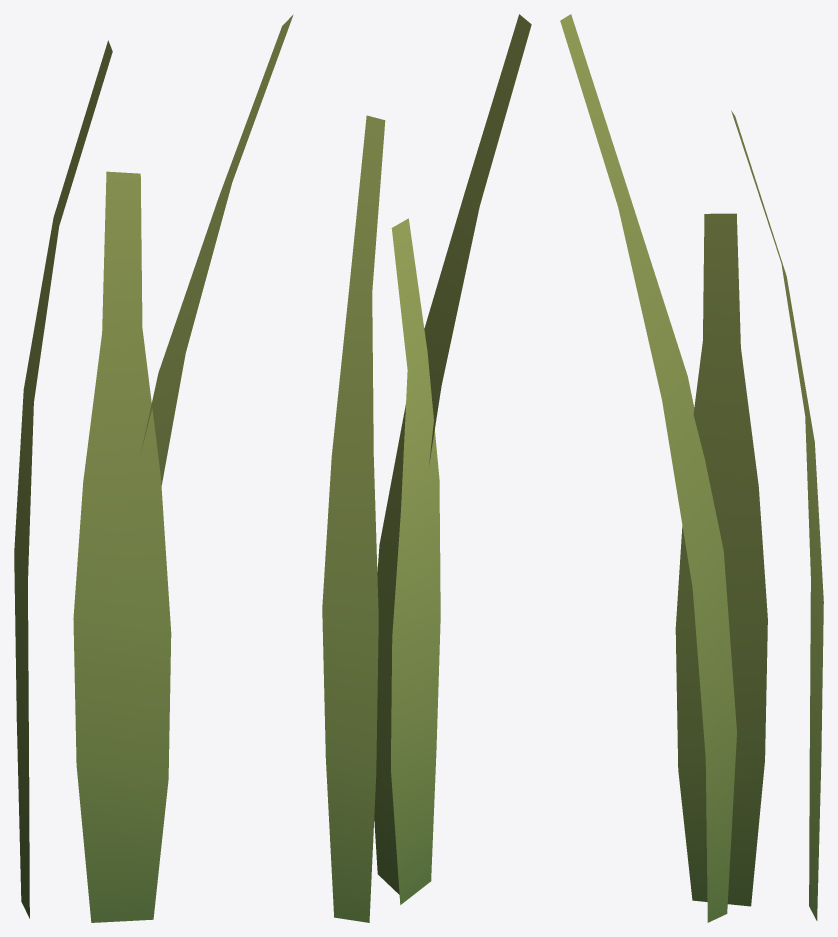
The model's file is kelp_lod1.glb.
3 renders of one model, left to right at view 1: azimuth 90°, elevation 25°; view 2: azimuth 150°, elevation 25°; view 3: azimuth 270°, elevation 25°, orthographic. The views are drawn at different scales.
Visible parts, largest first — view 1: kelp_lod1; view 2: kelp_lod1; view 3: kelp_lod1.
Part boxes in pixels (x1=…): kelp_lod1: x1=14, y1=14, x2=293, y2=922; kelp_lod1: x1=322, y1=14, x2=531, y2=922; kelp_lod1: x1=560, y1=14, x2=823, y2=922.
Size of the model in its own units: 1.12 by 8.89 by 2.43.
